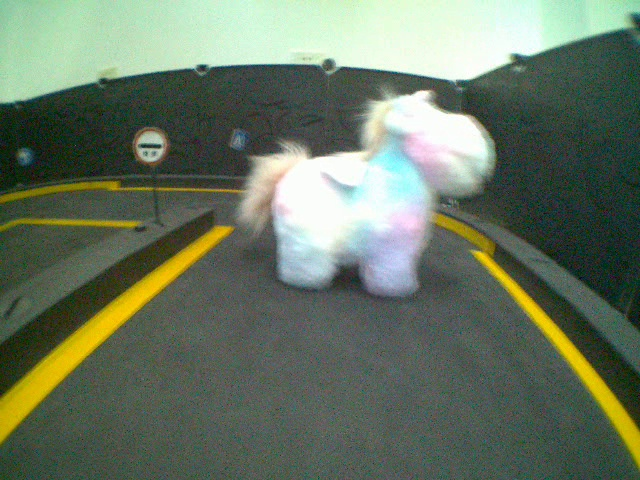unicorn: (236, 77, 502, 300)
